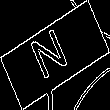N_SE: (31, 23, 79, 87)
